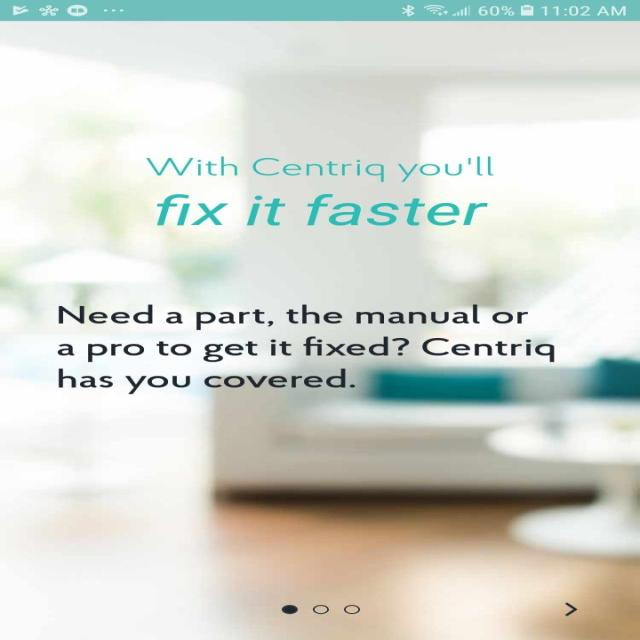BackgroundImage: (0, 21, 639, 639)
Icon: (563, 602, 577, 616)
Text: (57, 303, 555, 394), (156, 193, 488, 225), (144, 155, 493, 182)
